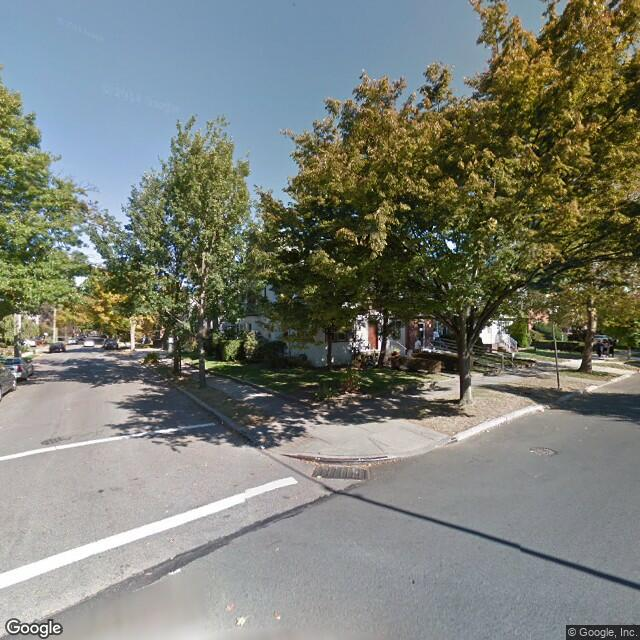litter: (313, 474, 325, 483), (312, 455, 319, 462), (258, 446, 266, 451), (481, 430, 488, 435), (358, 458, 364, 460), (220, 420, 225, 421)
